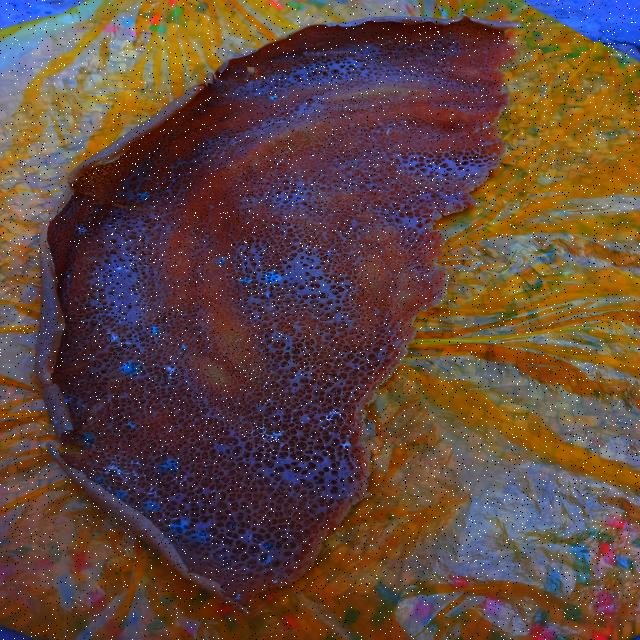injera_mold: (94, 453, 142, 477), (250, 423, 288, 445), (320, 406, 353, 429), (158, 458, 182, 472), (117, 360, 140, 374), (104, 329, 126, 341), (193, 530, 210, 544), (171, 522, 190, 534), (142, 501, 160, 512), (257, 540, 275, 550), (263, 272, 281, 282), (74, 224, 87, 234), (111, 491, 127, 499), (236, 278, 254, 284), (216, 256, 227, 264), (138, 192, 150, 199), (262, 556, 271, 565), (269, 95, 279, 101), (165, 367, 177, 372), (150, 327, 160, 333), (261, 382, 269, 388), (235, 594, 242, 600), (95, 479, 105, 483), (271, 580, 279, 584), (182, 344, 188, 349), (265, 293, 271, 298), (116, 266, 123, 270), (168, 376, 172, 379), (179, 353, 183, 355)
